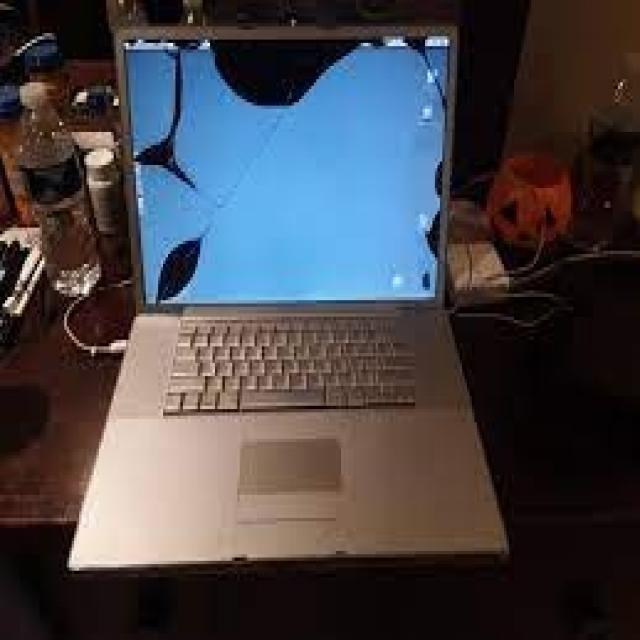Screen cracks: (118, 33, 452, 310)
